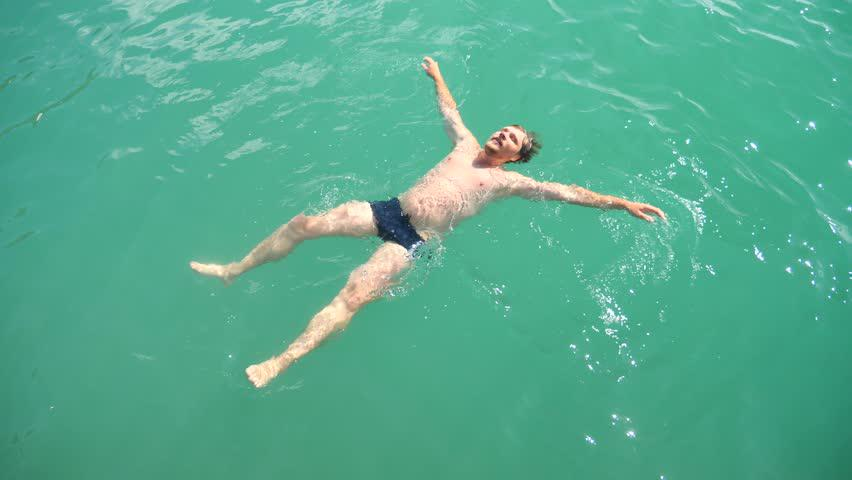human: (188, 57, 668, 390)
